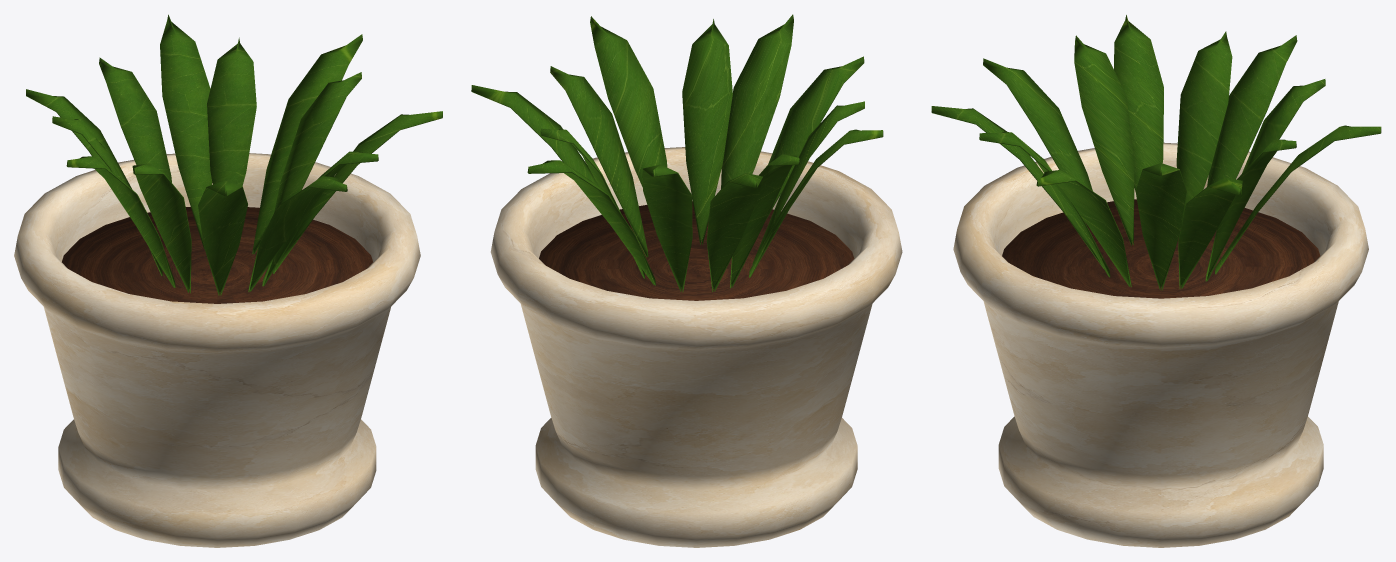
The model's file is explore3d__reaction_park_garden_0.glb.
The picture shows the model from 3 angles, left to right: view 1: azimuth 30°, elevation 25°; view 2: azimuth 150°, elevation 25°; view 3: azimuth 270°, elevation 25°; orthographic projection. The views are drawn at different scales.
Parts seen in each view (by area): view 1: Rebuilt_reaction_park_garden_0; view 2: Rebuilt_reaction_park_garden_0; view 3: Rebuilt_reaction_park_garden_0.
Part boxes in pixels (x1=…): Rebuilt_reaction_park_garden_0: x1=14, y1=14, x2=442, y2=547; Rebuilt_reaction_park_garden_0: x1=471, y1=14, x2=902, y2=547; Rebuilt_reaction_park_garden_0: x1=931, y1=15, x2=1381, y2=547.
Size of the model in its own units: 1.12 by 1.13 by 1.19.
3 materials, 3 textured.
